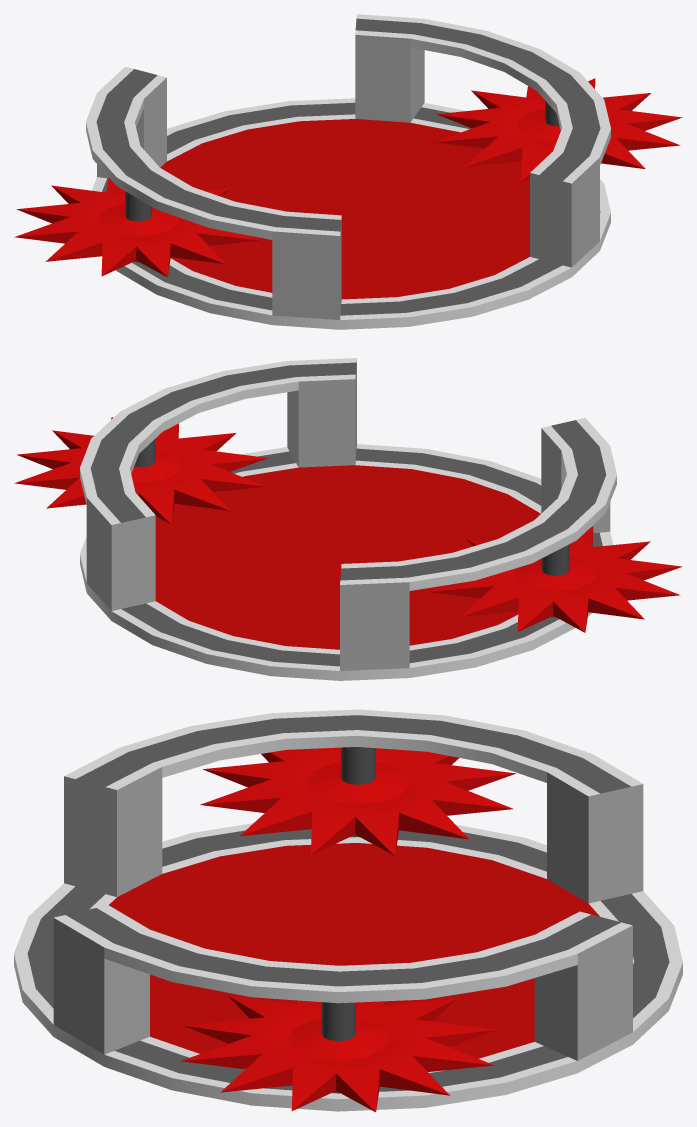
The model's file is saw_obstacle (2).fbx.
3 renders of one model, top to bottom at view 1: azimuth 30°, elevation 25°; view 2: azimuth 150°, elevation 25°; view 3: azimuth 270°, elevation 25°, orthographic. The views are drawn at different scales.
Visible parts, largest first — view 1: saw_stand, saw1, saw2; view 2: saw_stand, saw1, saw2; view 3: saw_stand, saw2, saw1.
Boxes of the visible parts, x1,y1,x2,y2 form: saw_stand: (86,14,610,329); saw1: (14,173,260,277); saw2: (434,78,682,181); saw_stand: (80,358,616,680); saw1: (428,526,681,632); saw2: (14,417,268,523); saw_stand: (14,709,682,1111); saw2: (180,995,496,1112); saw1: (200,747,516,855).
Bounding box in the file's own units: 240 × 34.21 × 174.
